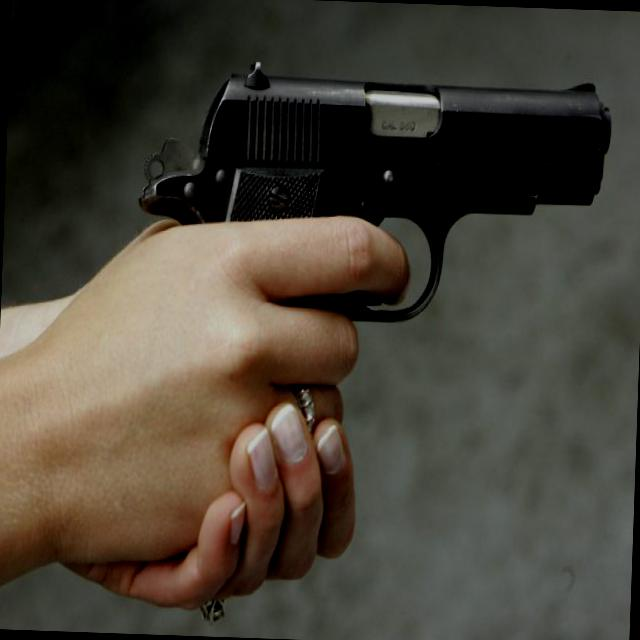handgun: (136, 51, 613, 333)
